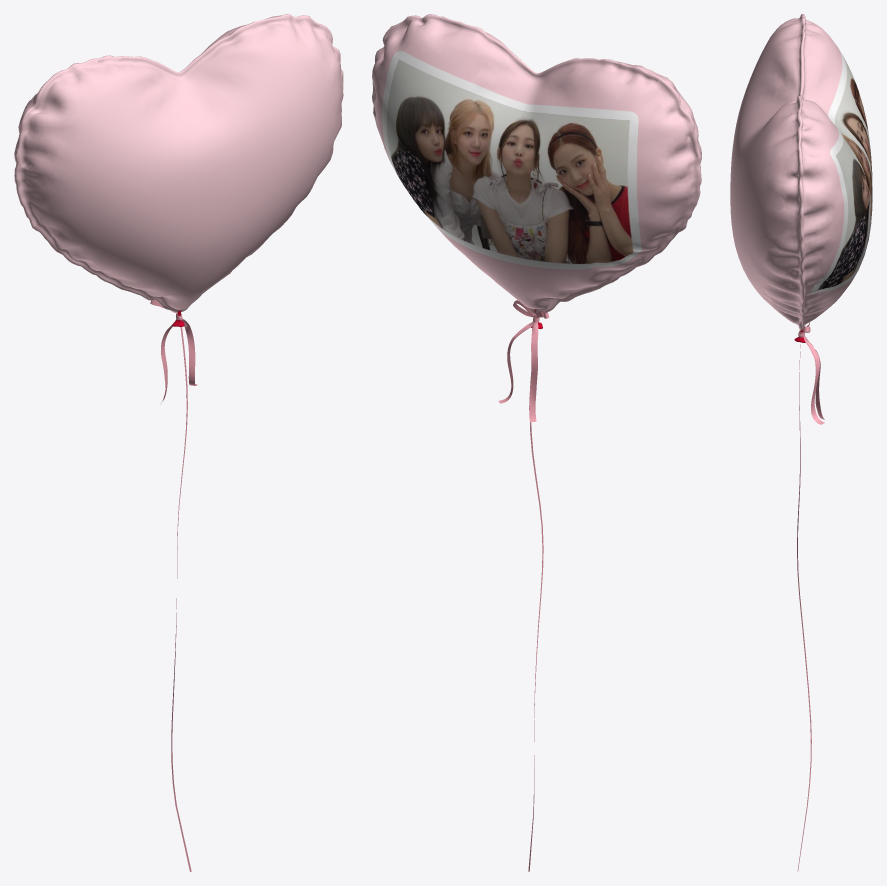
File: pink_baloon.glb
3 renders of one model, left to right at view 1: azimuth 30°, elevation 25°; view 2: azimuth 150°, elevation 25°; view 3: azimuth 270°, elevation 25°, orthographic. The views are drawn at different scales.
Visible parts, largest first — view 1: Love_Baloon.003; view 2: Love_Baloon.003; view 3: Love_Baloon.003.
Part boxes in pixels (left/top/right/bottom): Love_Baloon.003: left=14, top=14, right=343, bottom=871; Love_Baloon.003: left=372, top=14, right=701, bottom=871; Love_Baloon.003: left=730, top=14, right=872, bottom=871.
Bounding box in the file's own units: 1.51 × 3.65 × 0.5883.
Materials: 1 (1 with a texture image).
